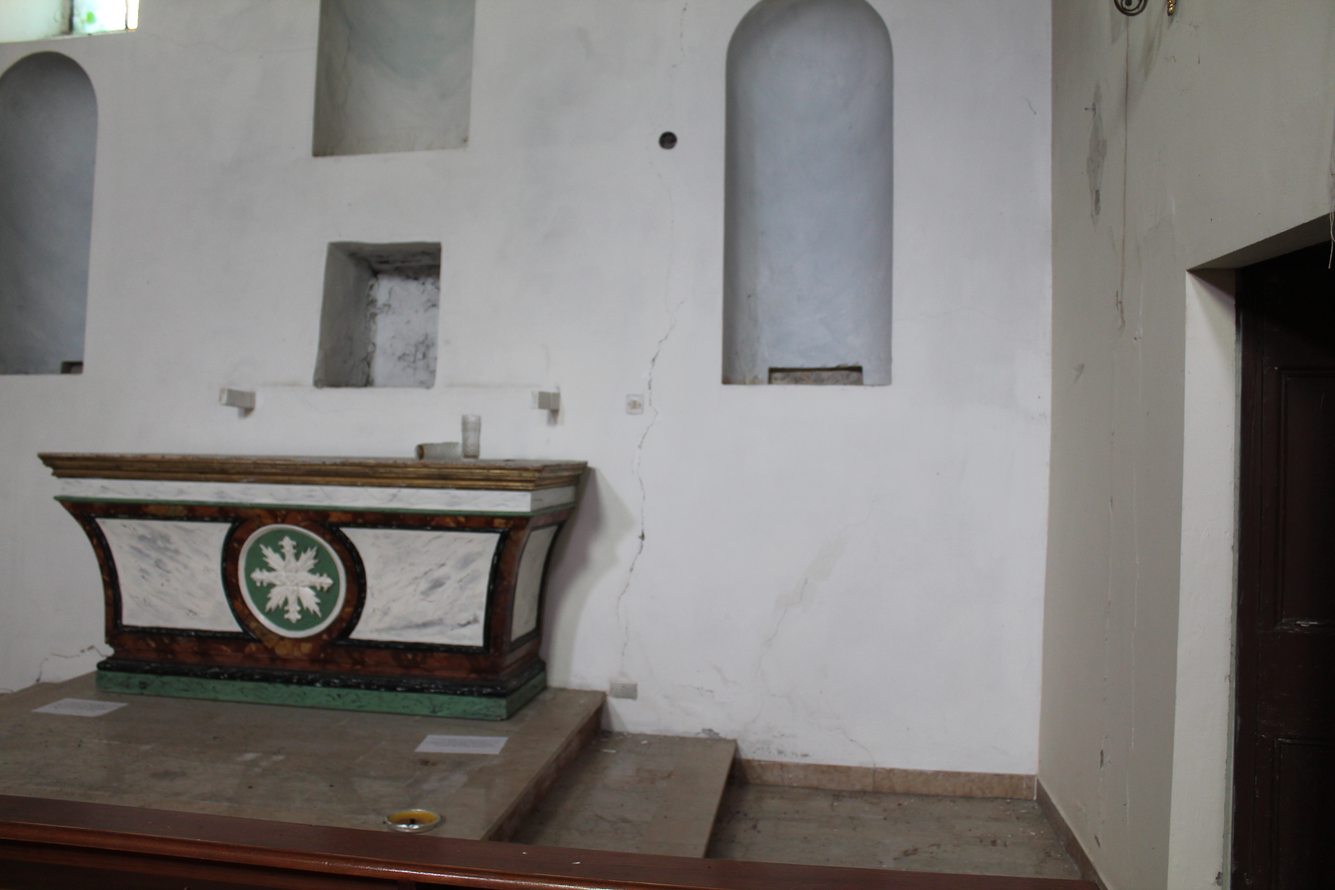Crack: (486, 10, 731, 751)
